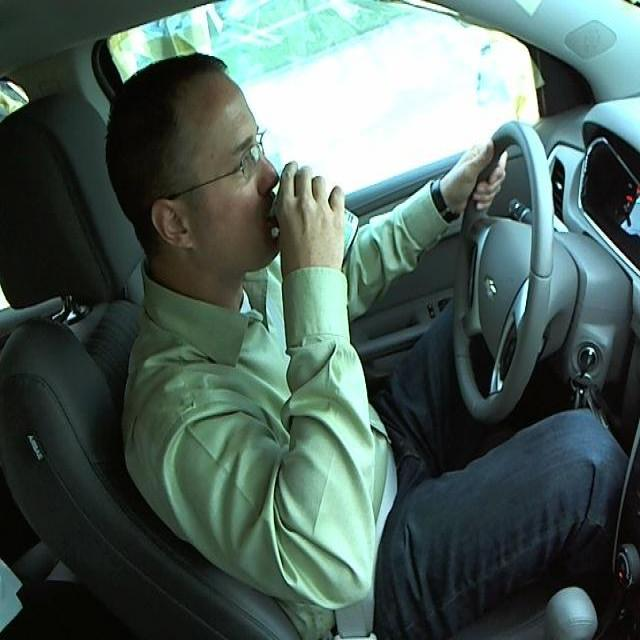drinking: (270, 168, 362, 268)
